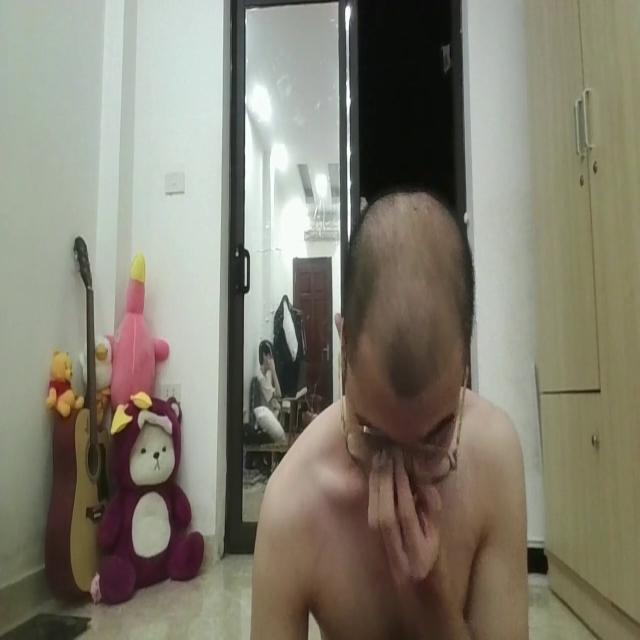student: (253, 164, 526, 640)
